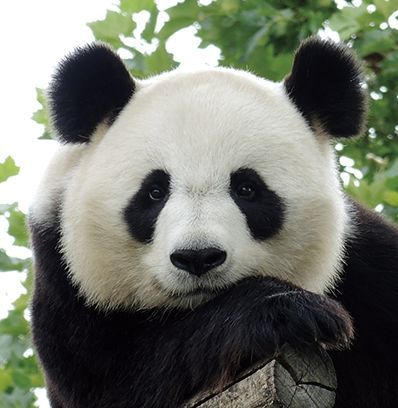panda: (18, 35, 396, 406)
